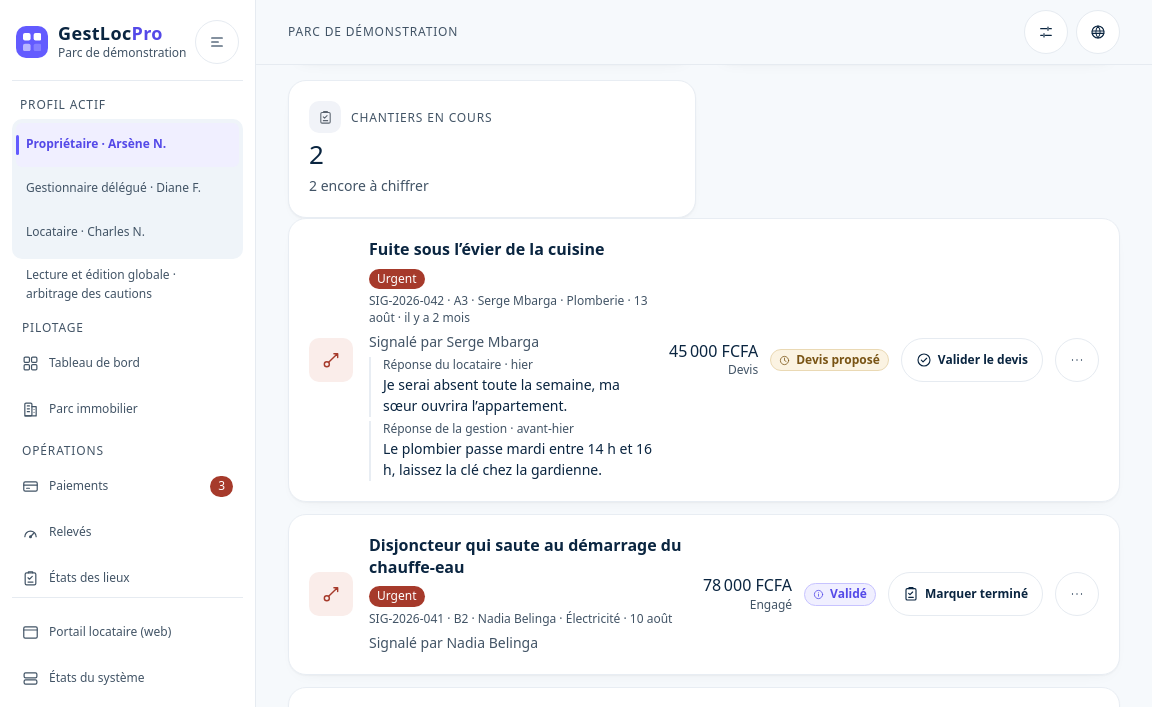
les commandes d’une carte d’intervention › garde les autres atteignables, sans en perdre une
The width and height of the screenshot is (1152, 707).
(page scrolled)
Expected: the list item that starts with "Fuite sous l’évier de la cuisine" is shown, [288,218,1120,502]
Click the button named "Autres actions" in the row of "Signalé par Serge Mbarga" at [1077, 360], box [1055,338,1099,382]
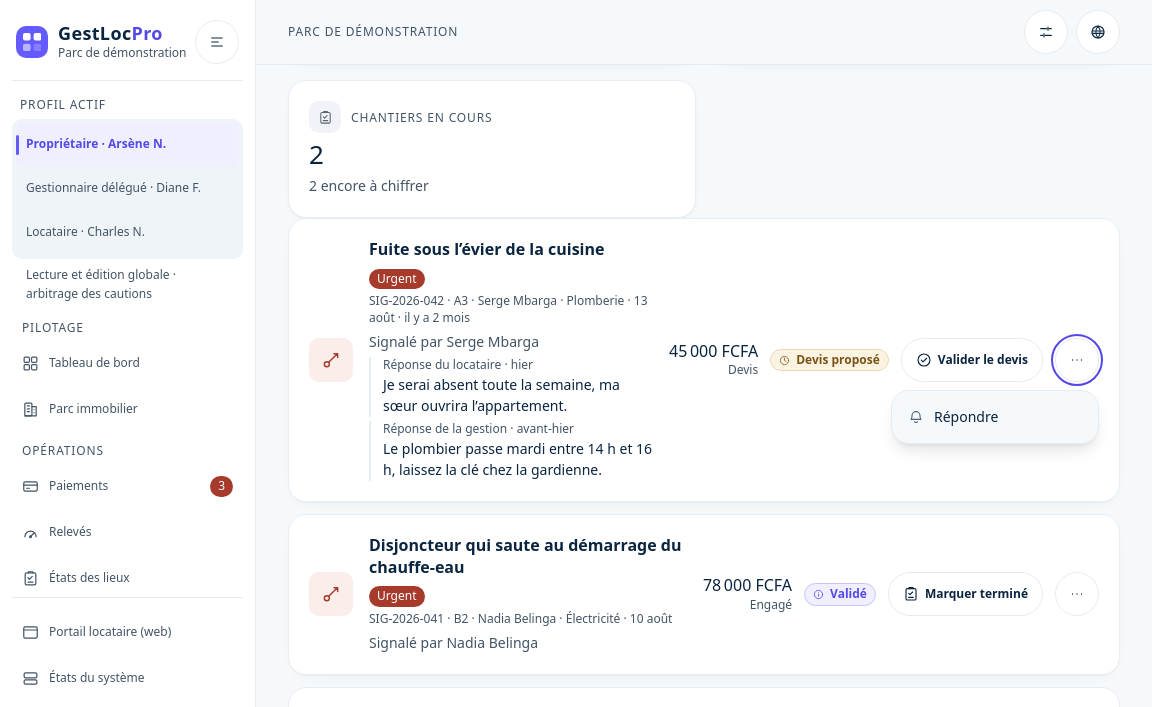
Result: the menu item "Répondre" is shown at [896,395,1094,439]
